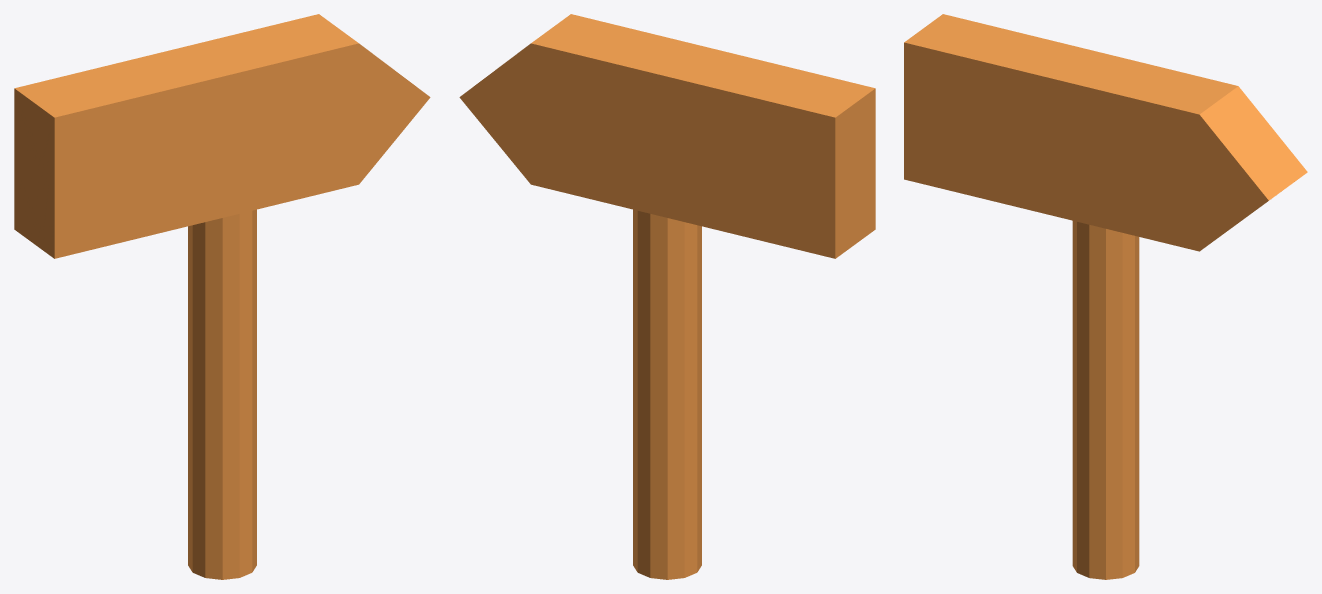
The model's file is SignPost.fbx.
3 renders of one model, left to right at view 1: azimuth 30°, elevation 25°; view 2: azimuth 150°, elevation 25°; view 3: azimuth 330°, elevation 25°, orthographic. The views are drawn at different scales.
Parts seen in each view (by area): view 1: Cylinder; view 2: Cylinder; view 3: Cylinder.
Boxes of the visible parts, box(x1,y1,x2,y2) form: Cylinder: box(14, 14, 430, 579); Cylinder: box(459, 14, 875, 579); Cylinder: box(904, 14, 1307, 579).
Size of the model in its own units: 101 by 131 by 18.69.
